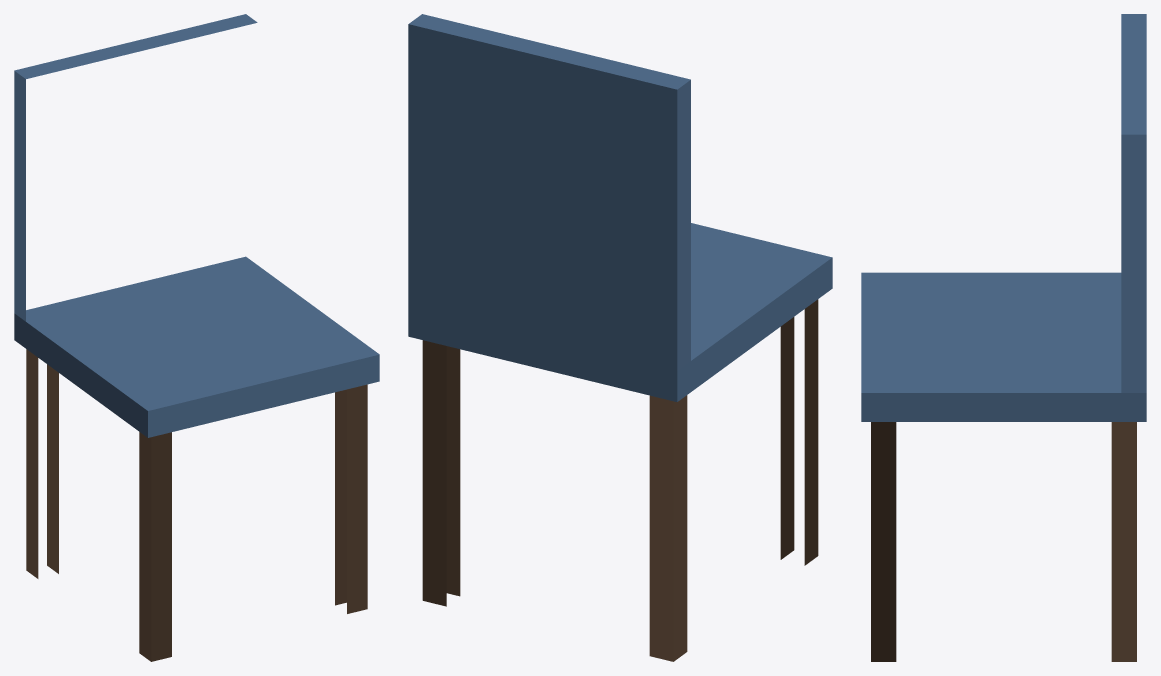
File: chair.glb
3 renders of one model, left to right at view 1: azimuth 30°, elevation 25°; view 2: azimuth 150°, elevation 25°; view 3: azimuth 270°, elevation 25°, orthographic. The views are drawn at different scales.
Size of the model in its own units: 0.45 by 0.925 by 0.45.
